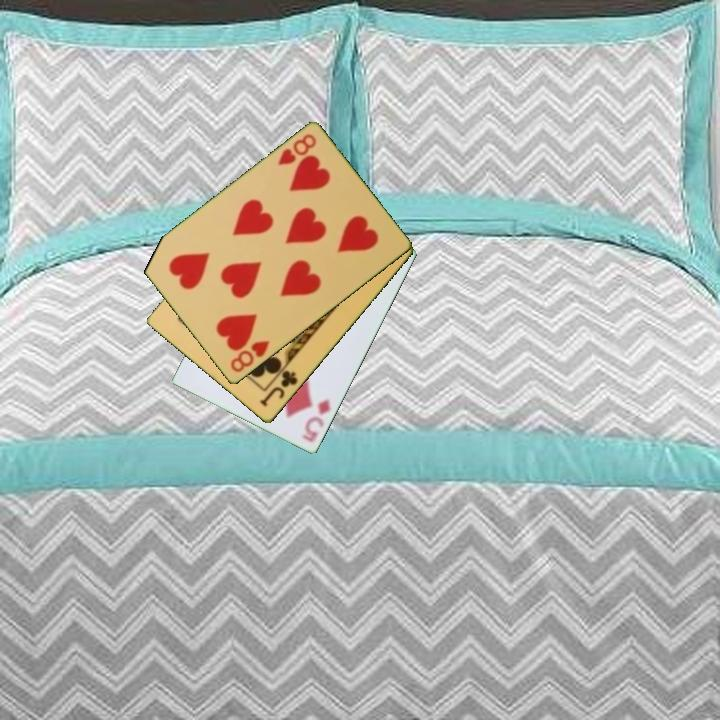5d: (299, 396, 334, 445)
8h: (227, 337, 273, 376), (274, 131, 319, 169)
Jc: (256, 367, 301, 410)
